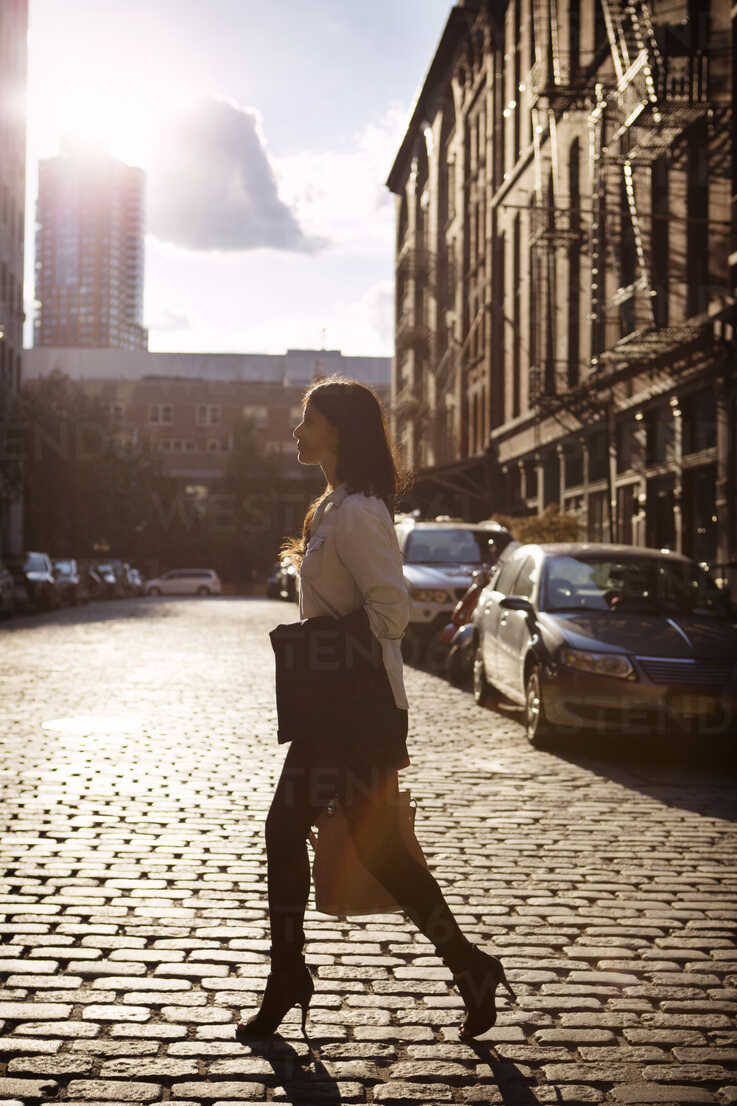person: (220, 374, 520, 1047)
